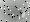person: (21, 8, 26, 19)
